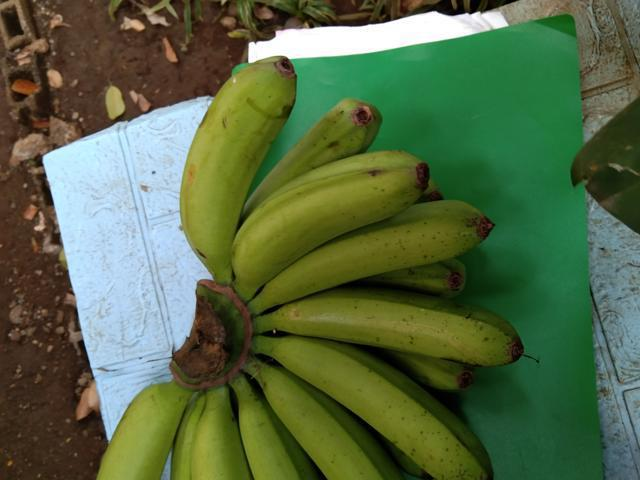freshunripe: (285, 329, 497, 479), (167, 51, 306, 276), (260, 254, 527, 370), (245, 192, 499, 308), (231, 141, 436, 278), (246, 365, 380, 479), (91, 358, 199, 479), (180, 381, 267, 479), (228, 380, 310, 479)
